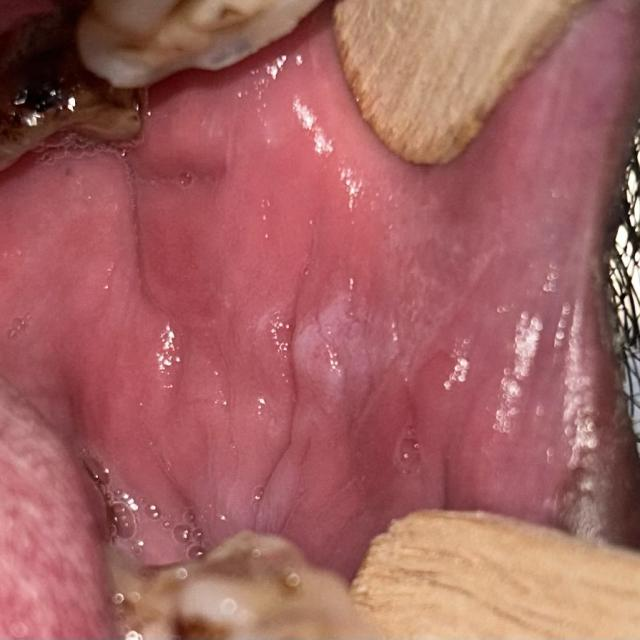leukoplakia-detection: (226, 13, 639, 532), (4, 380, 97, 639)
processing_area: (2, 11, 639, 639)
